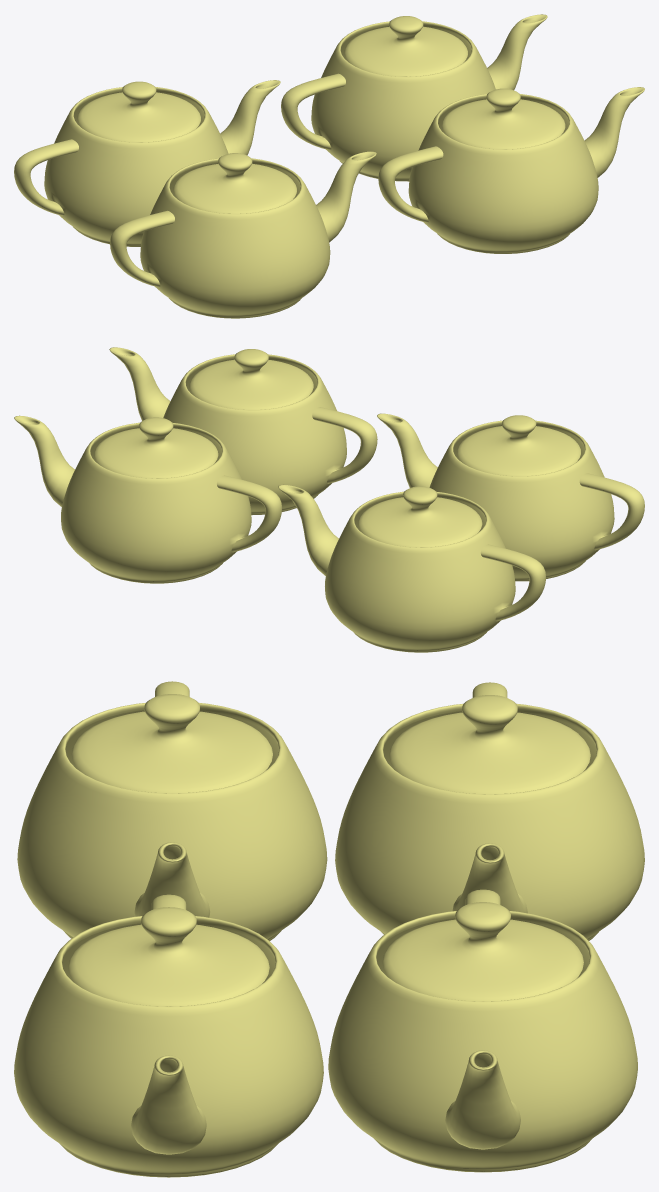
Rendered from teapotset.gltf.
The picture shows the model from 3 angles, top to bottom: view 1: azimuth 30°, elevation 25°; view 2: azimuth 150°, elevation 25°; view 3: azimuth 270°, elevation 25°; orthographic projection. The views are drawn at different scales.
Parts seen in each view (by area): view 1: teapot.002, teapot.001, teapot.003, teapot; view 2: teapot.003, teapot, teapot.002, teapot.001; view 3: teapot.001, teapot, teapot.002, teapot.003.
Part boxes in pixels (bbox=[...]): teapot.002: bbox=[110, 151, 376, 318]; teapot.001: bbox=[378, 87, 644, 253]; teapot.003: bbox=[14, 80, 280, 246]; teapot: bbox=[281, 14, 547, 181]; teapot.003: bbox=[278, 484, 545, 652]; teapot: bbox=[14, 415, 281, 583]; teapot.002: bbox=[377, 413, 644, 581]; teapot.001: bbox=[109, 347, 377, 515]; teapot.001: bbox=[14, 894, 323, 1177]; teapot: bbox=[328, 889, 637, 1172]; teapot.002: bbox=[17, 681, 327, 940]; teapot.003: bbox=[335, 682, 644, 940].
Size of the model in its own units: 12.94 by 3.21 by 8.14.
